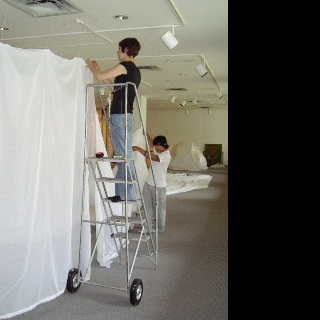without_mask: (116, 43, 125, 60), (154, 142, 162, 151)
